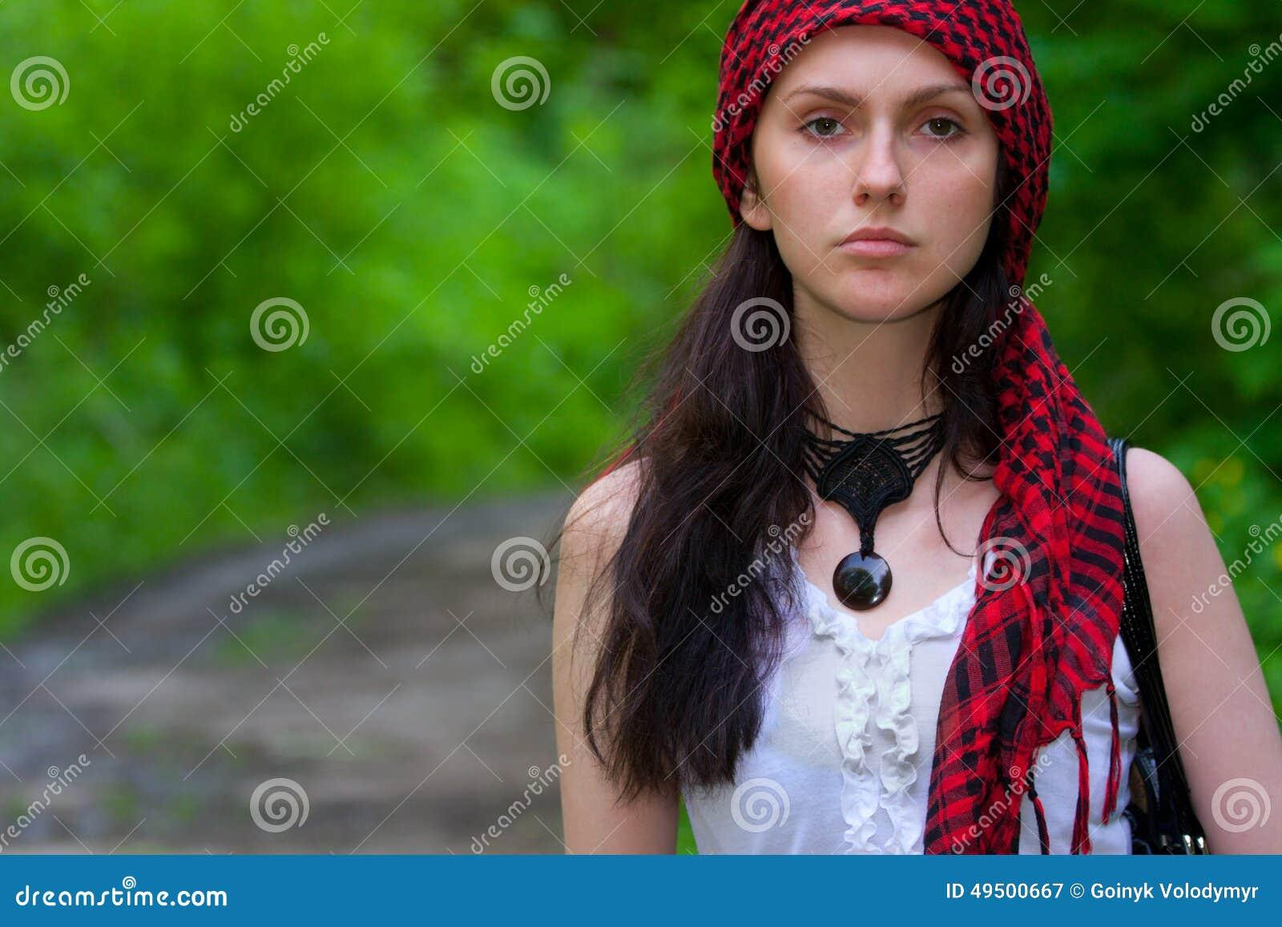cap: (673, 0, 1084, 184)
